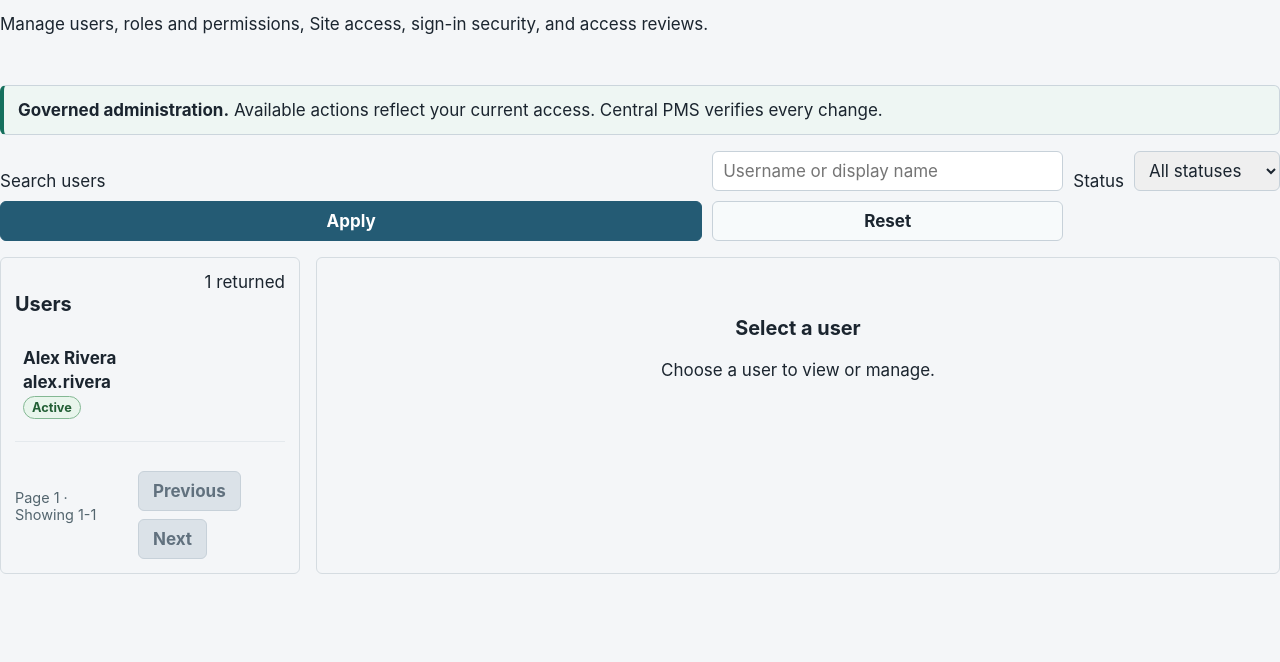
Test: IdentityAdministrationPage › renders a populated governed user list and coherent detail without raw identifiers
The width and height of the screenshot is (1280, 662).
Click the button "Alex Rivera alex.rivera Active" at (70, 358), box [15,336,285,431]
(page scrolled)
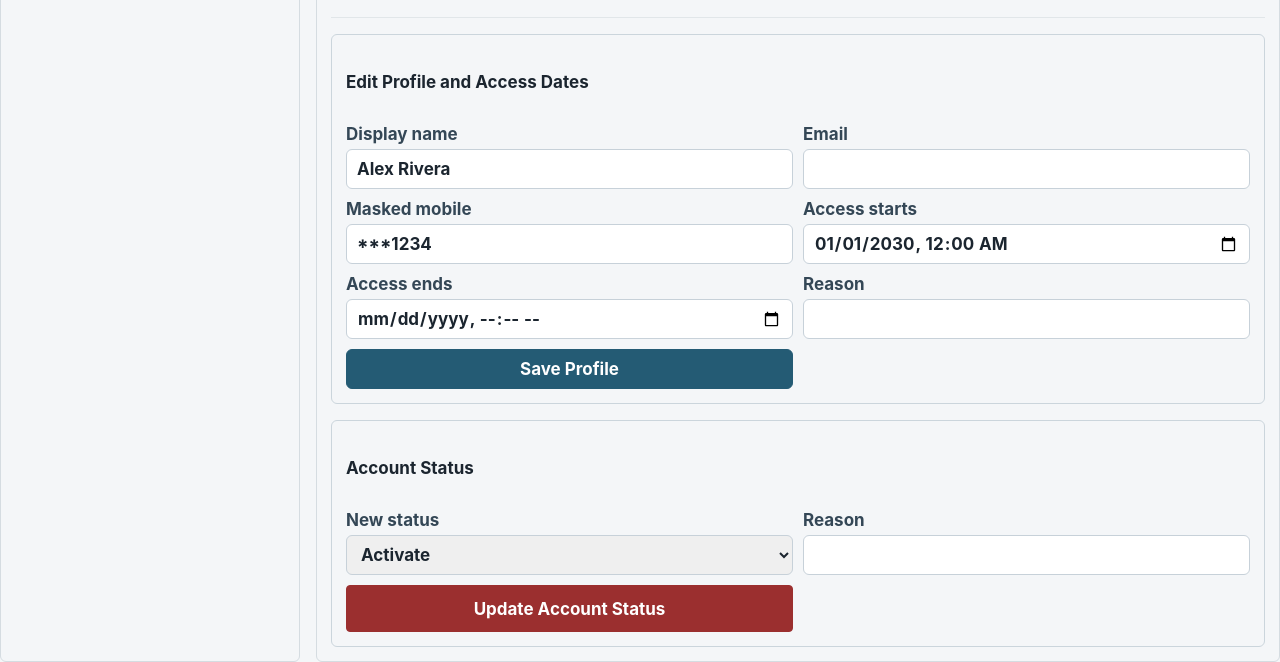
Result: the heading "Account Status" is shown at [346,458,474,478]
